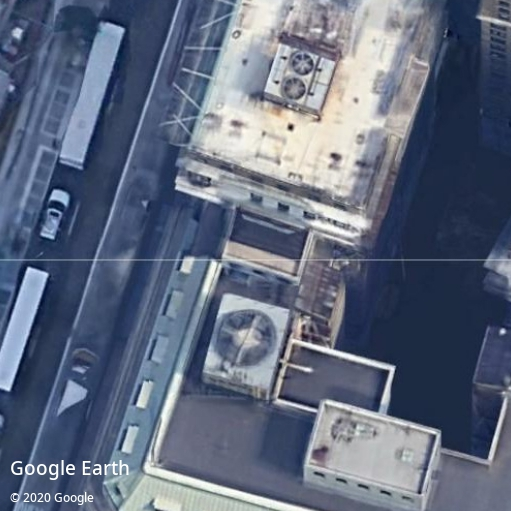Vent: (218, 310, 277, 367), (292, 53, 314, 76), (283, 78, 306, 100)
